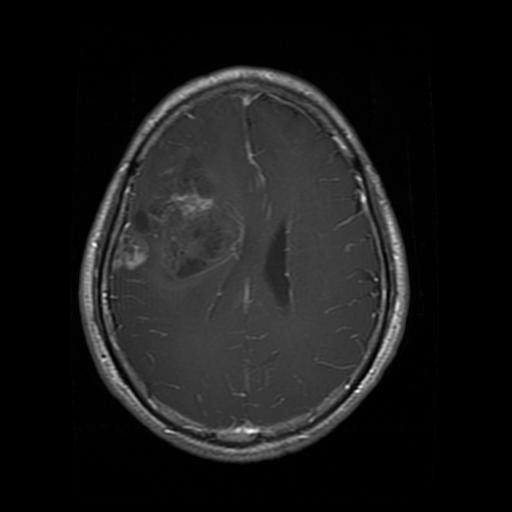Tumour-Glioma: (140, 170, 263, 285)
